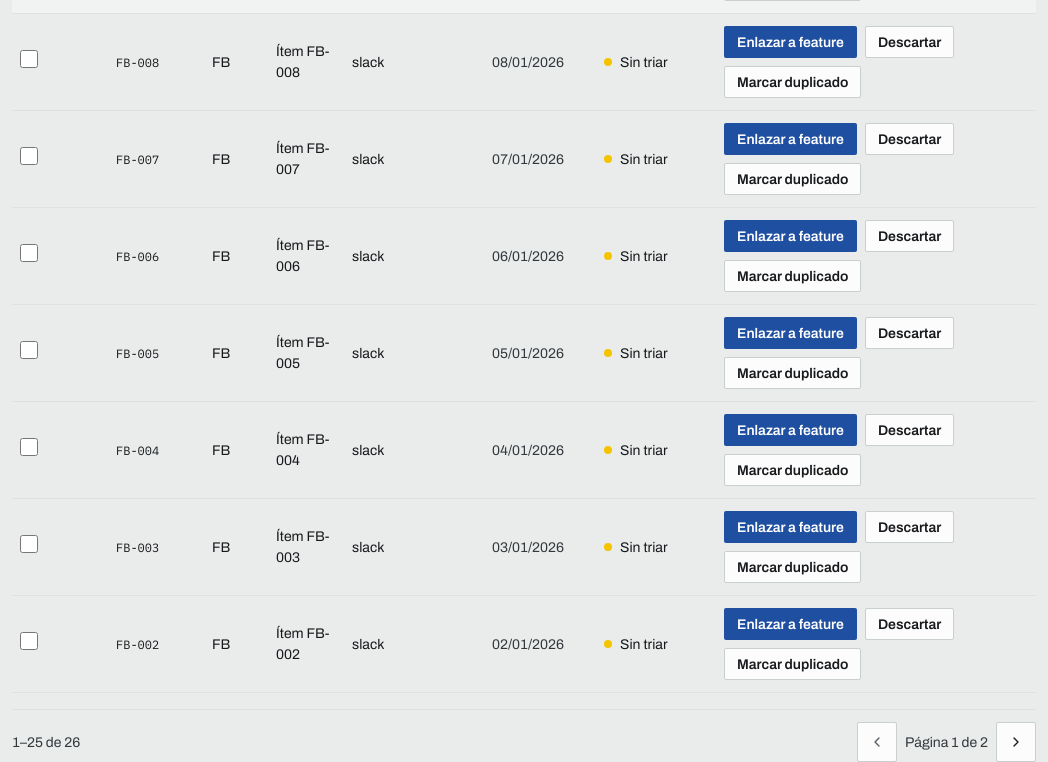
Entrada › paginates at 25 rows per page, resetting to page 1 on a filter change
The image size is (1048, 762).
(page scrolled)
Expected: the text "Página 1 de 2" is shown, [905, 732, 988, 752]
Expected: the text "1–25 de 26" is shown, [12, 732, 80, 752]
Click the button named "Página siguiente".
click(1016, 742)  # box [996, 722, 1036, 761]
(page scrolled)
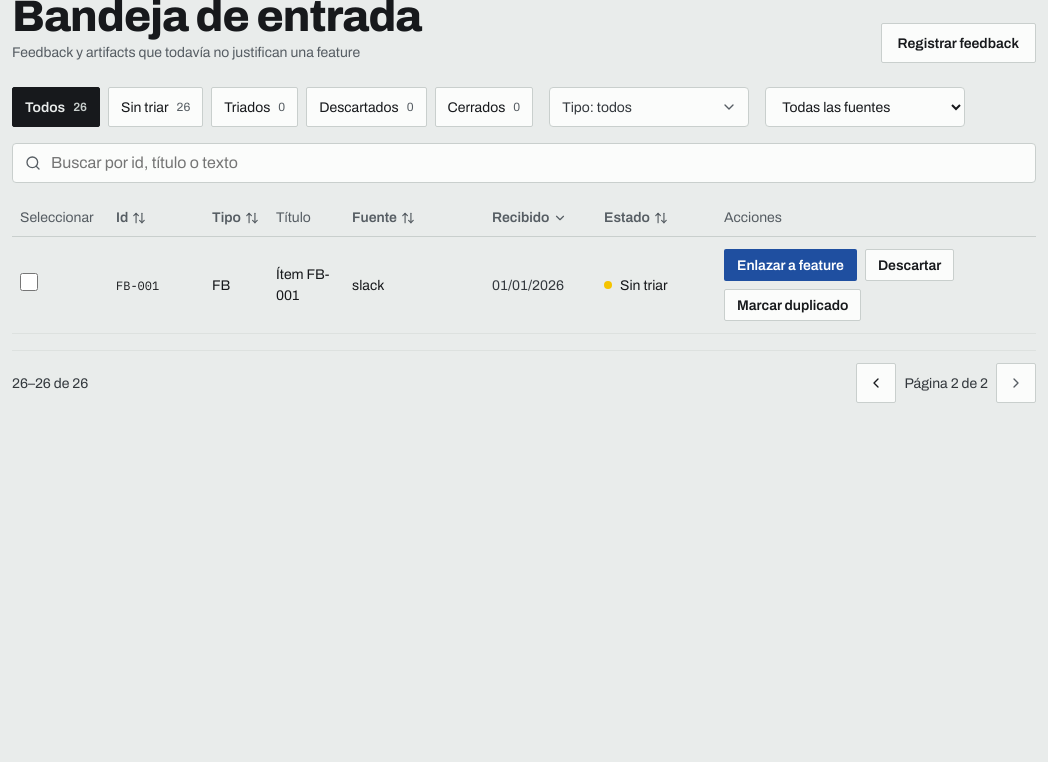
Expected: the number of rows is 2, [12, 199, 1036, 236]; [12, 237, 1036, 334]
Now the text "Página 2 de 2" is shown, box [904, 372, 988, 394]
Select "Tipo: FB" in the dropdown named "Tipo" at (649, 107), box [549, 87, 749, 127]
(page scrolled)
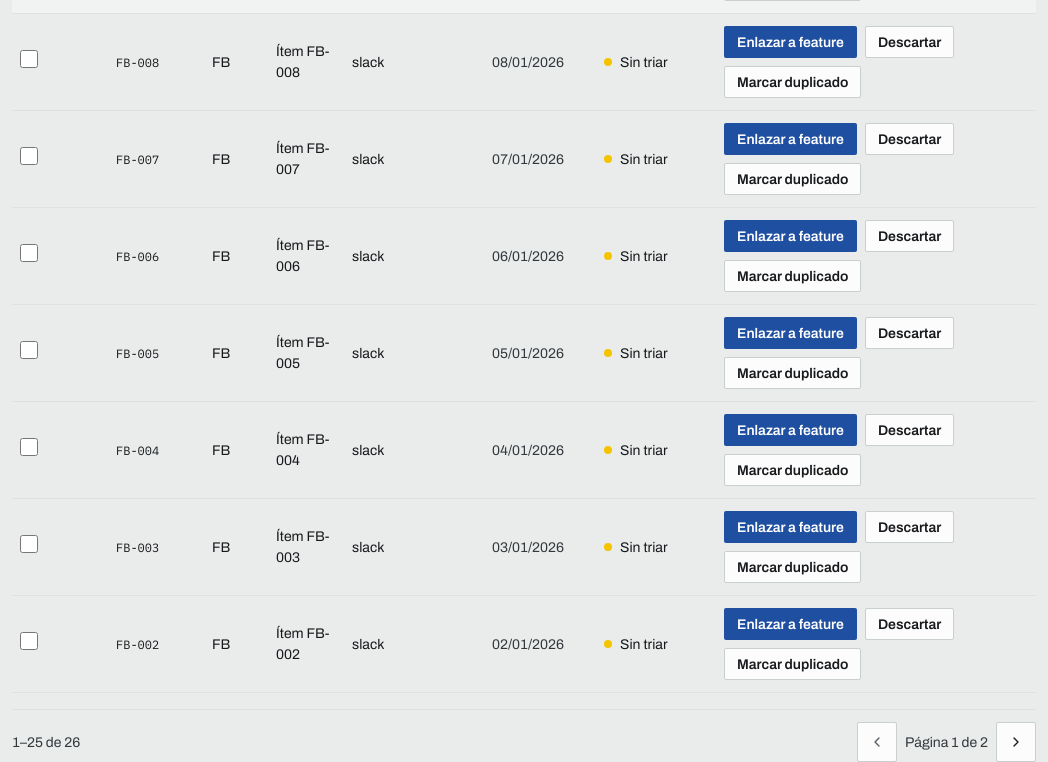
Now the text "Página 1 de 2" is shown, box [905, 732, 988, 752]
